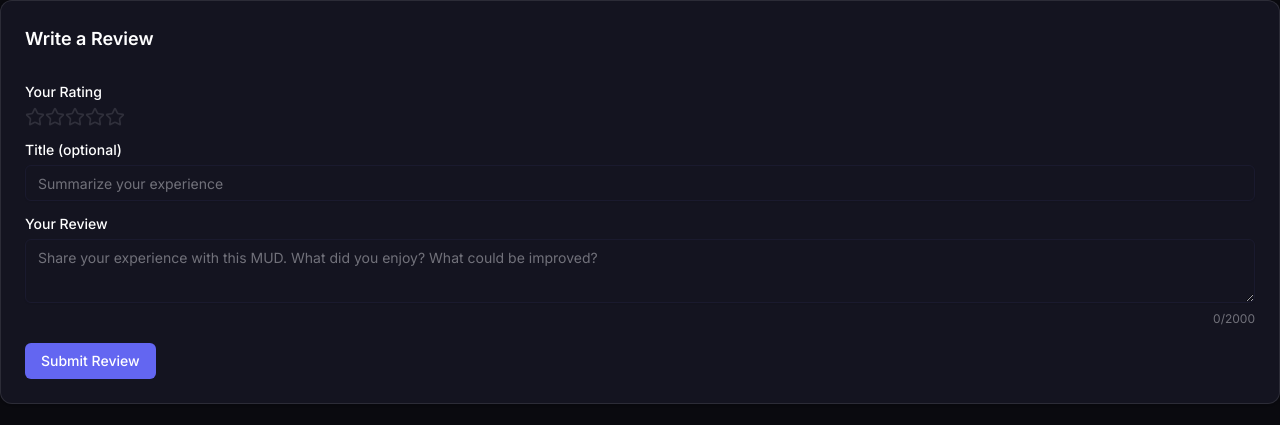
Test case: ReviewForm › shows validation error when review body is too short
# Click on a star to set rating
Click the 4th button: {"x": 95, "y": 117} 85,107 -> 105,127
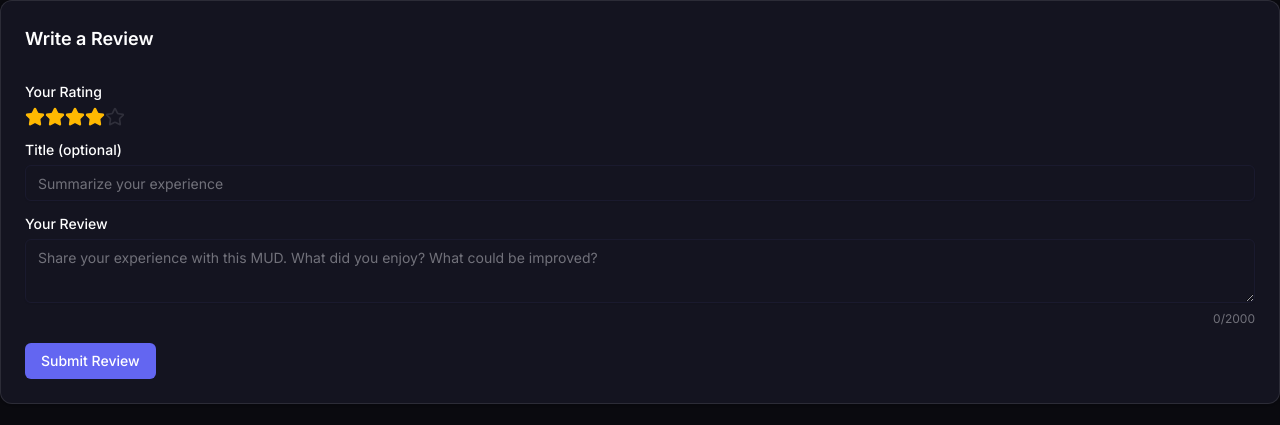
In the text box labelled "Your Review": {"x": 640, "y": 271} 25,239 -> 1255,303, type "Too short"
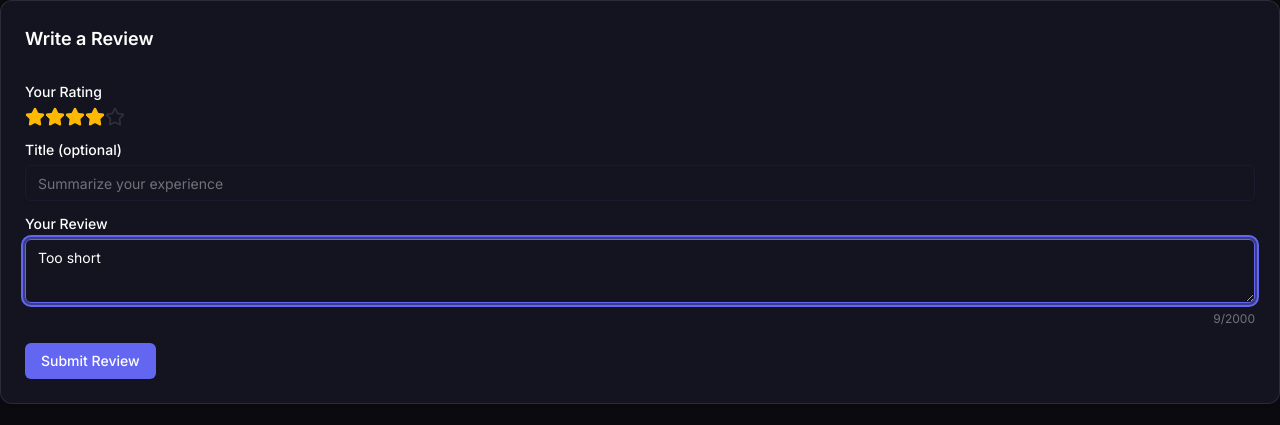
Click the button "Submit Review": {"x": 90, "y": 361} 25,343 -> 156,379
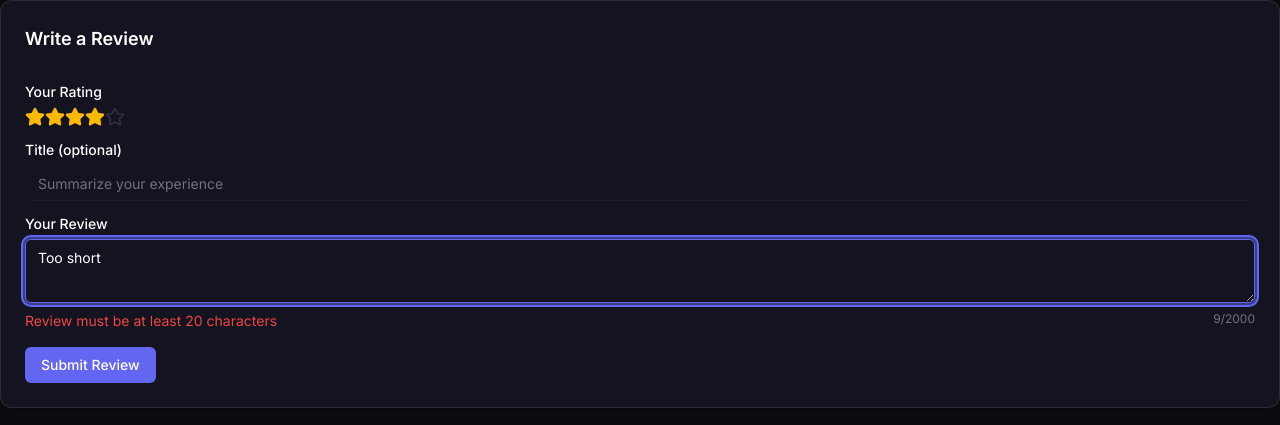
Now the text "Review must be at least 20 characters" is shown, box 25,311 -> 277,331
